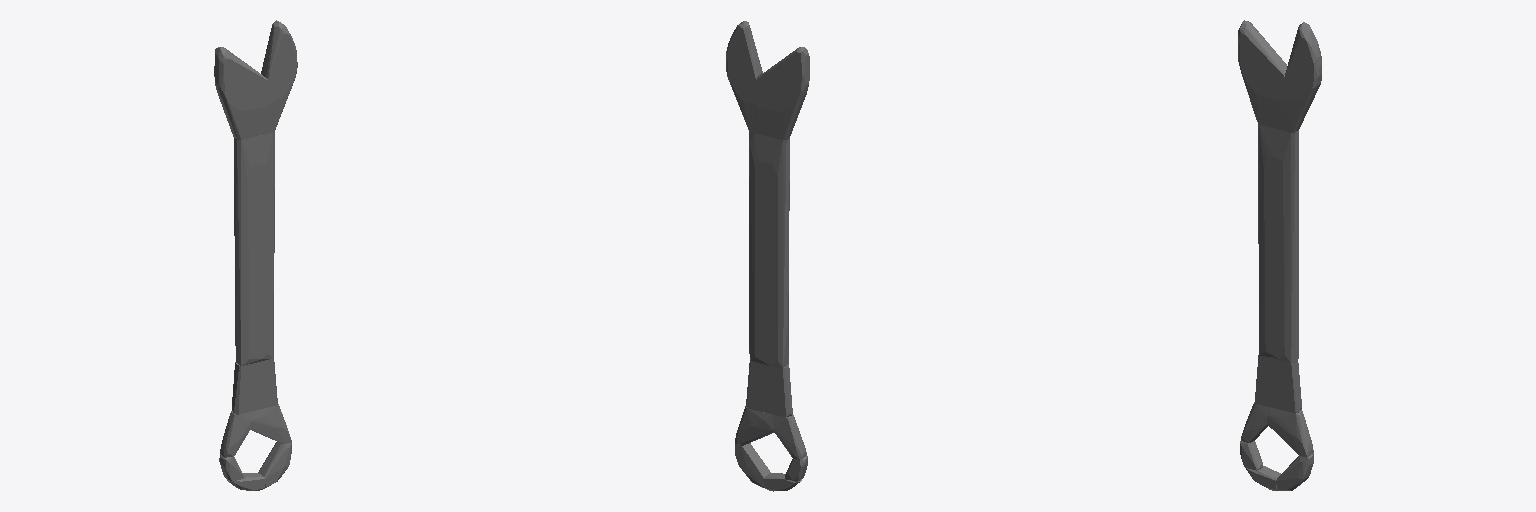
The robot description file, URDF, robot "wrench_010":
<?xml version="1.0" ?>
<robot name="wrench_010">
  <material name="color">
    <color rgba=".5 .5 .5 1"/>
  </material>

  <link name="base_link">
    <contact>
      <lateral_friction value="1.0"/>
      <rolling_friction value="0.001"/>
      <spinning_friction value="0.001"/>
      <inertia_scaling value="1.0"/>
    </contact>
    <inertial>
      <origin rpy="0 0 0" xyz="-0.00052626 0.000759322 0.000773306"/>
       <mass value="0.1"/>
       <inertia ixx="1" ixy="0" ixz="0" iyy="1" iyz="0" izz="1"/>
    </inertial>

    <visual>
      <origin rpy="0 0 0" xyz="0 0 0"/>
      <geometry>
        <mesh filename="wrench_010_vhacd_0_of_9.obj" scale="1 1 1"/>
      </geometry>
      <material name="color"/>
    </visual>
    <visual>
      <origin rpy="0 0 0" xyz="0 0 0"/>
      <geometry>
        <mesh filename="wrench_010_vhacd_1_of_9.obj" scale="1 1 1"/>
      </geometry>
      <material name="color"/>
    </visual>
    <visual>
      <origin rpy="0 0 0" xyz="0 0 0"/>
      <geometry>
        <mesh filename="wrench_010_vhacd_2_of_9.obj" scale="1 1 1"/>
      </geometry>
      <material name="color"/>
    </visual>
    <visual>
      <origin rpy="0 0 0" xyz="0 0 0"/>
      <geometry>
        <mesh filename="wrench_010_vhacd_3_of_9.obj" scale="1 1 1"/>
      </geometry>
      <material name="color"/>
    </visual>
    <visual>
      <origin rpy="0 0 0" xyz="0 0 0"/>
      <geometry>
        <mesh filename="wrench_010_vhacd_4_of_9.obj" scale="1 1 1"/>
      </geometry>
      <material name="color"/>
    </visual>
    <visual>
      <origin rpy="0 0 0" xyz="0 0 0"/>
      <geometry>
        <mesh filename="wrench_010_vhacd_5_of_9.obj" scale="1 1 1"/>
      </geometry>
      <material name="color"/>
    </visual>
    <visual>
      <origin rpy="0 0 0" xyz="0 0 0"/>
      <geometry>
        <mesh filename="wrench_010_vhacd_6_of_9.obj" scale="1 1 1"/>
      </geometry>
      <material name="color"/>
    </visual>
    <visual>
      <origin rpy="0 0 0" xyz="0 0 0"/>
      <geometry>
        <mesh filename="wrench_010_vhacd_7_of_9.obj" scale="1 1 1"/>
      </geometry>
      <material name="color"/>
    </visual>
    <visual>
      <origin rpy="0 0 0" xyz="0 0 0"/>
      <geometry>
        <mesh filename="wrench_010_vhacd_8_of_9.obj" scale="1 1 1"/>
      </geometry>
      <material name="color"/>
    </visual>

    <collision>
      <origin rpy="0 0 0" xyz="0 0 0"/>
      <geometry>
        <mesh filename="wrench_010_vhacd_0_of_9.obj" scale="1 1 1"/>
      </geometry>
    </collision>
    <collision>
      <origin rpy="0 0 0" xyz="0 0 0"/>
      <geometry>
        <mesh filename="wrench_010_vhacd_1_of_9.obj" scale="1 1 1"/>
      </geometry>
    </collision>
    <collision>
      <origin rpy="0 0 0" xyz="0 0 0"/>
      <geometry>
        <mesh filename="wrench_010_vhacd_2_of_9.obj" scale="1 1 1"/>
      </geometry>
    </collision>
    <collision>
      <origin rpy="0 0 0" xyz="0 0 0"/>
      <geometry>
        <mesh filename="wrench_010_vhacd_3_of_9.obj" scale="1 1 1"/>
      </geometry>
    </collision>
    <collision>
      <origin rpy="0 0 0" xyz="0 0 0"/>
      <geometry>
        <mesh filename="wrench_010_vhacd_4_of_9.obj" scale="1 1 1"/>
      </geometry>
    </collision>
    <collision>
      <origin rpy="0 0 0" xyz="0 0 0"/>
      <geometry>
        <mesh filename="wrench_010_vhacd_5_of_9.obj" scale="1 1 1"/>
      </geometry>
    </collision>
    <collision>
      <origin rpy="0 0 0" xyz="0 0 0"/>
      <geometry>
        <mesh filename="wrench_010_vhacd_6_of_9.obj" scale="1 1 1"/>
      </geometry>
    </collision>
    <collision>
      <origin rpy="0 0 0" xyz="0 0 0"/>
      <geometry>
        <mesh filename="wrench_010_vhacd_7_of_9.obj" scale="1 1 1"/>
      </geometry>
    </collision>
    <collision>
      <origin rpy="0 0 0" xyz="0 0 0"/>
      <geometry>
        <mesh filename="wrench_010_vhacd_8_of_9.obj" scale="1 1 1"/>
      </geometry>
    </collision>

  </link>
</robot>

--- Facts derived from the render (not from the file) ---
The picture shows the robot from 3 angles, left to right: view 1: azimuth 30°, elevation 25°; view 2: azimuth 150°, elevation 25°; view 3: azimuth 330°, elevation 25°; orthographic projection.
Robot: wrench_010 — 1 links, 0 joints (none); root link base_link; default pose: all joints at 0.
Visible links, largest first — view 1: base_link; view 2: base_link; view 3: base_link.
Boxes of the visible links, left/top/right/bottom form: base_link: left=214, top=20, right=297, bottom=490; base_link: left=726, top=21, right=809, bottom=491; base_link: left=1238, top=20, right=1321, bottom=490.
Bounding box of the posed robot: 0.0305 × 0.0067 × 0.1704 m (x, y, z).
Meshes: 9 distinct files referenced, 9 mesh visuals loaded (9 OBJ).